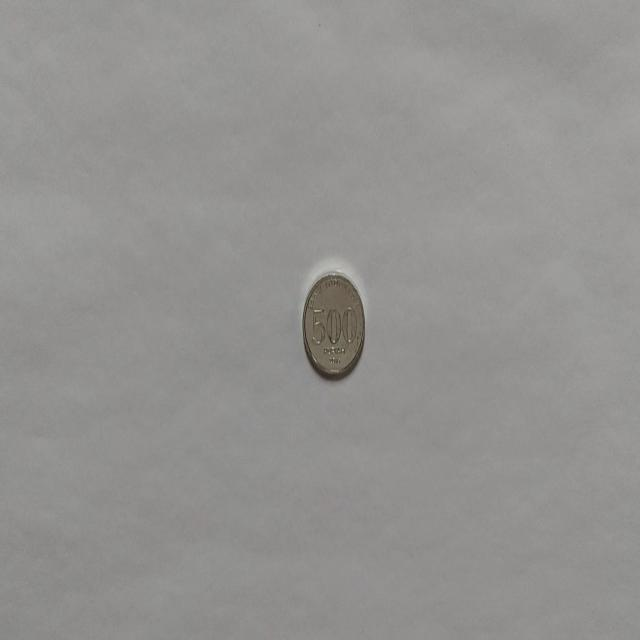lima ratus rupiah: (300, 270, 366, 380)
